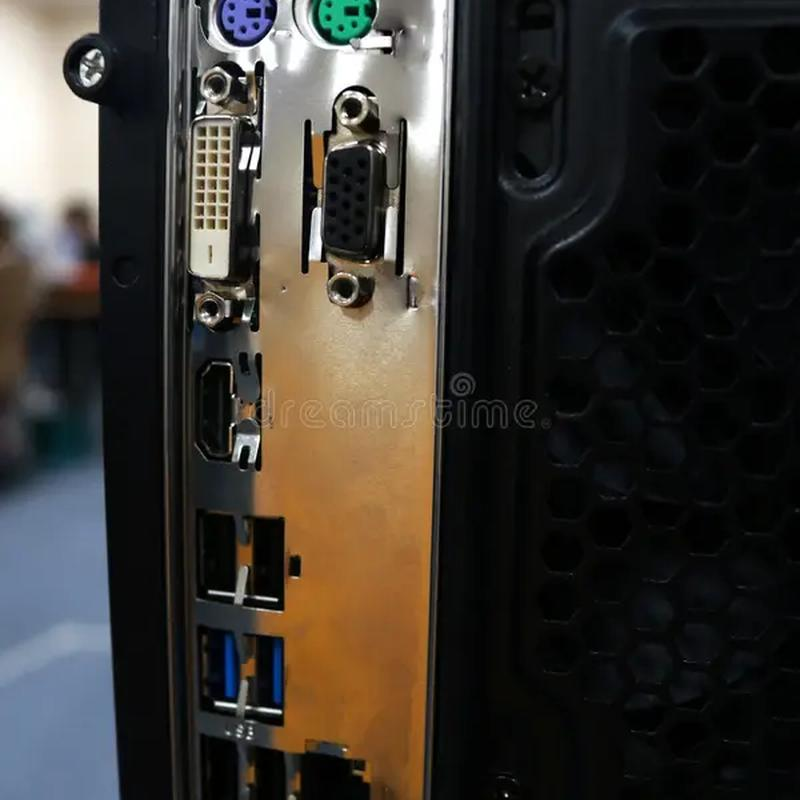DVI: (173, 55, 272, 336)
HDMI: (161, 345, 282, 480)
PS: (183, 0, 281, 49)
PS2: (296, 0, 392, 73)
USB: (238, 627, 301, 732), (242, 504, 298, 609), (181, 509, 240, 604), (185, 617, 240, 712)
VGA: (301, 87, 412, 322)
